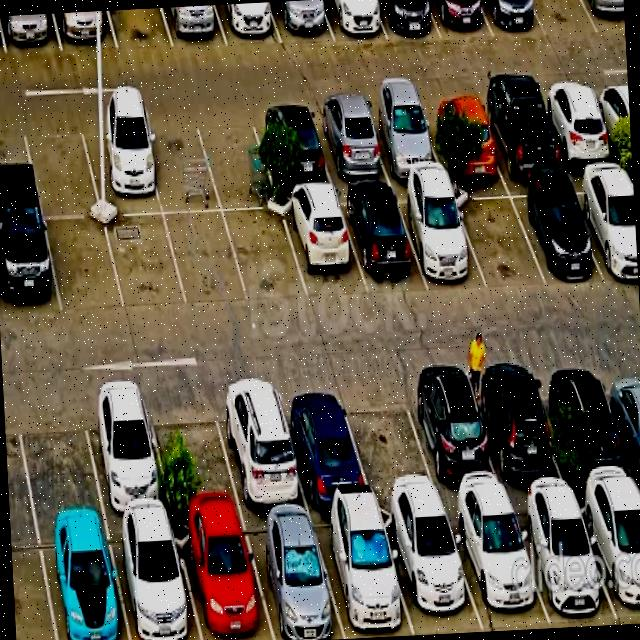empty: (340, 376, 441, 502), (145, 386, 242, 517), (13, 389, 104, 524), (451, 184, 546, 289), (194, 108, 279, 212), (141, 114, 222, 214), (22, 117, 101, 217), (165, 213, 249, 307), (106, 215, 187, 311), (45, 218, 125, 314), (224, 211, 308, 302), (109, 8, 174, 49), (531, 0, 598, 38)
occupied: (401, 370, 509, 503), (445, 500, 551, 630), (511, 497, 618, 625), (379, 506, 484, 635), (311, 508, 414, 639), (470, 366, 571, 498), (241, 513, 345, 640), (212, 377, 309, 512), (173, 515, 274, 640), (276, 380, 373, 508), (79, 386, 172, 518), (546, 362, 639, 494), (107, 518, 202, 640), (38, 521, 129, 640), (506, 180, 602, 284), (280, 191, 368, 301), (394, 186, 487, 288), (338, 188, 428, 293), (576, 489, 640, 625), (79, 116, 163, 216), (567, 171, 638, 279), (477, 92, 564, 176), (251, 105, 334, 191), (310, 102, 391, 185), (363, 100, 445, 180), (538, 86, 618, 167), (421, 96, 504, 174), (0, 215, 62, 318), (601, 361, 640, 486), (591, 84, 632, 162), (215, 2, 282, 46), (163, 5, 227, 48), (270, 0, 333, 43), (374, 0, 441, 40), (321, 0, 387, 40), (54, 11, 118, 51), (429, 0, 493, 40), (0, 14, 62, 54), (481, 0, 546, 37), (583, 0, 625, 33)
